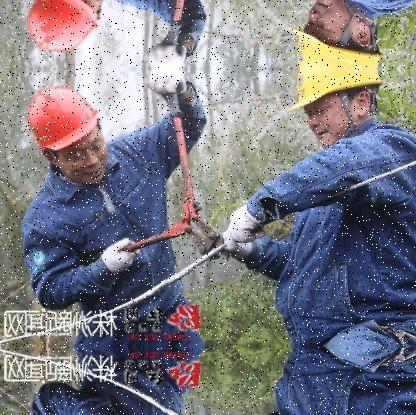helmet: (17, 74, 114, 190), (287, 70, 391, 149), (286, 0, 391, 67), (17, 0, 115, 63)
